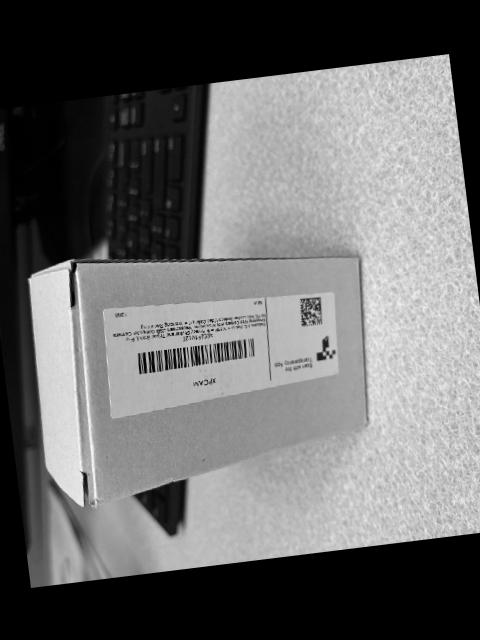CameraBox1: (28, 254, 372, 506)
